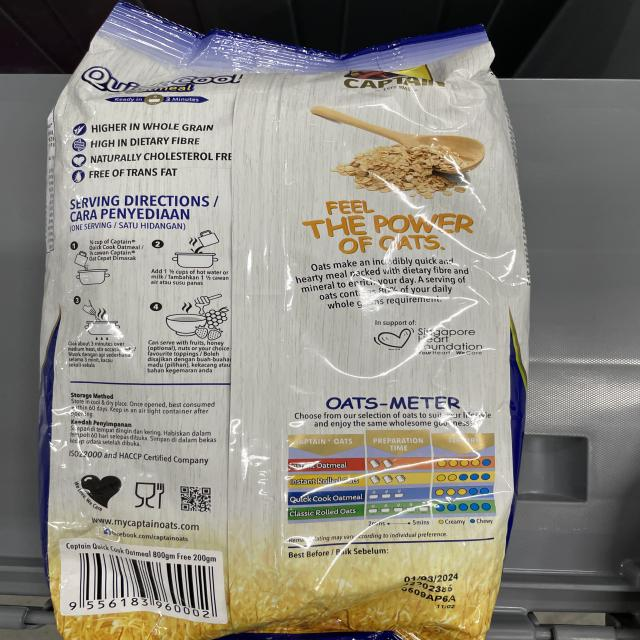object_name: (53, 16, 491, 624)
